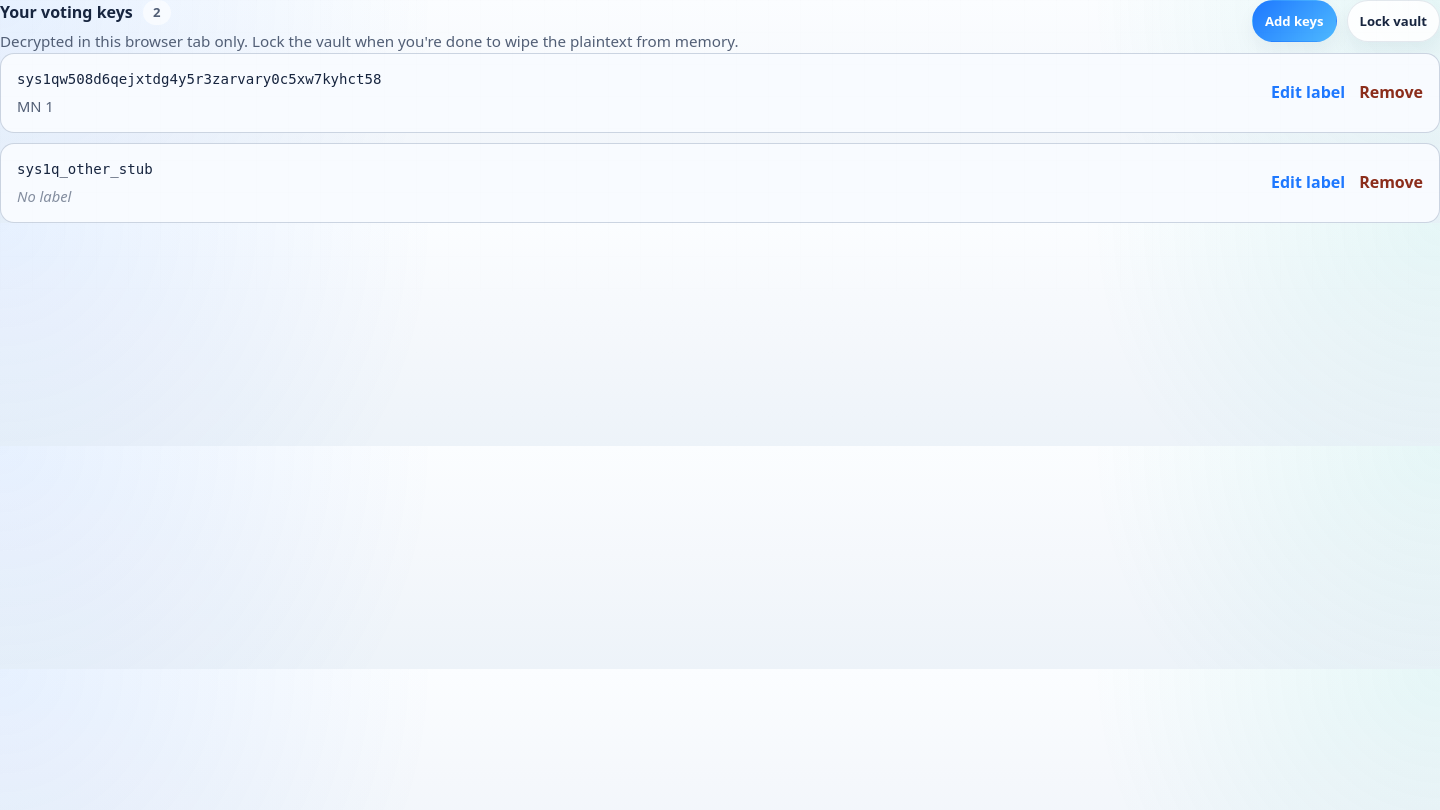
Test: KeyManagerCard — list with keys › surfaces a mutation error and stays in the list view
Click the button with test id "key-row-remove" in the row of "MN 1": coordinates (1391, 93) [1359,80,1423,106]
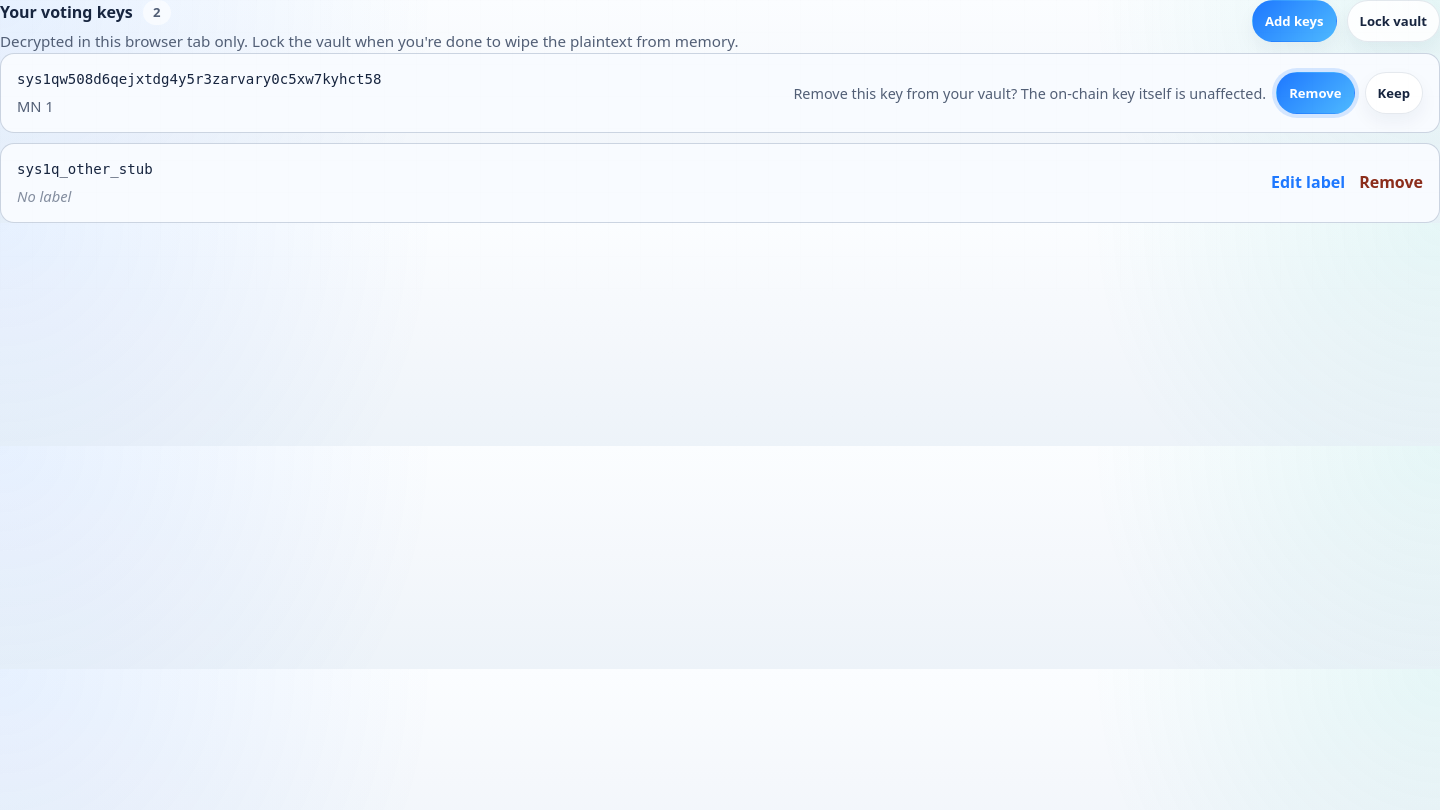
Click the button with test id "key-row-confirm": coordinates (1315, 93) [1276,72,1354,114]
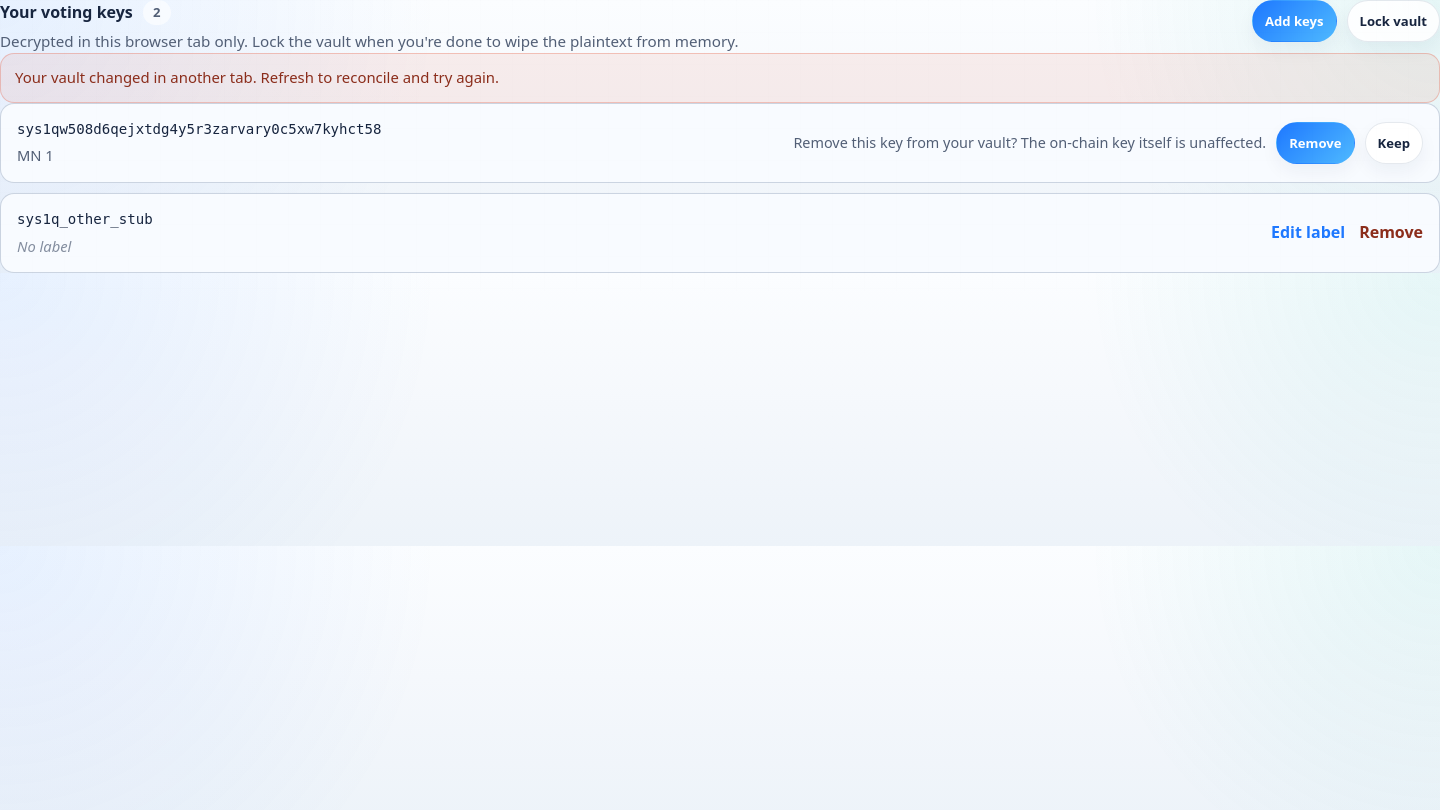
Result: the message with test id "key-manager-error" shows "Your vault changed in another tab" at [15,67,499,87]
